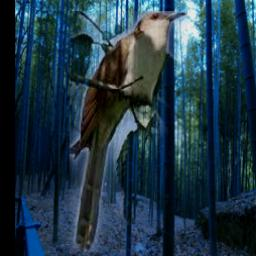Cuckoo: (69, 12, 186, 253)
